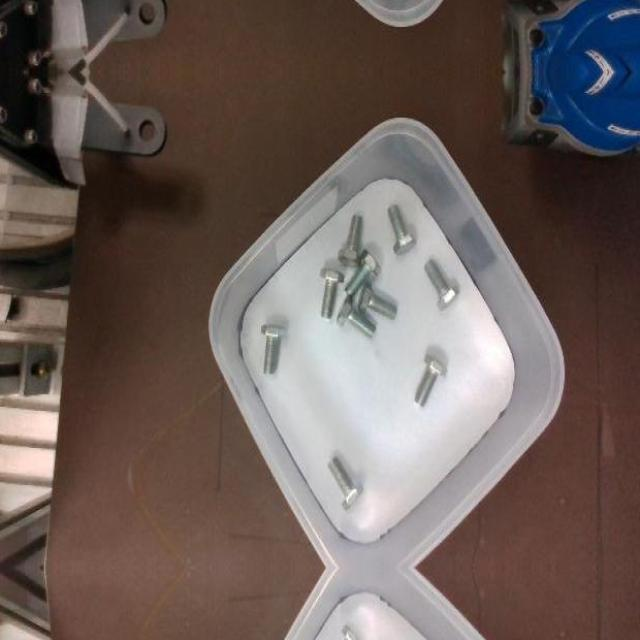screw: (328, 456, 363, 510), (424, 258, 460, 310), (414, 354, 448, 408), (344, 249, 381, 298), (336, 294, 374, 338), (387, 203, 417, 254), (358, 282, 397, 320), (338, 213, 362, 266), (260, 324, 285, 374), (320, 268, 344, 318), (326, 625, 362, 640)
